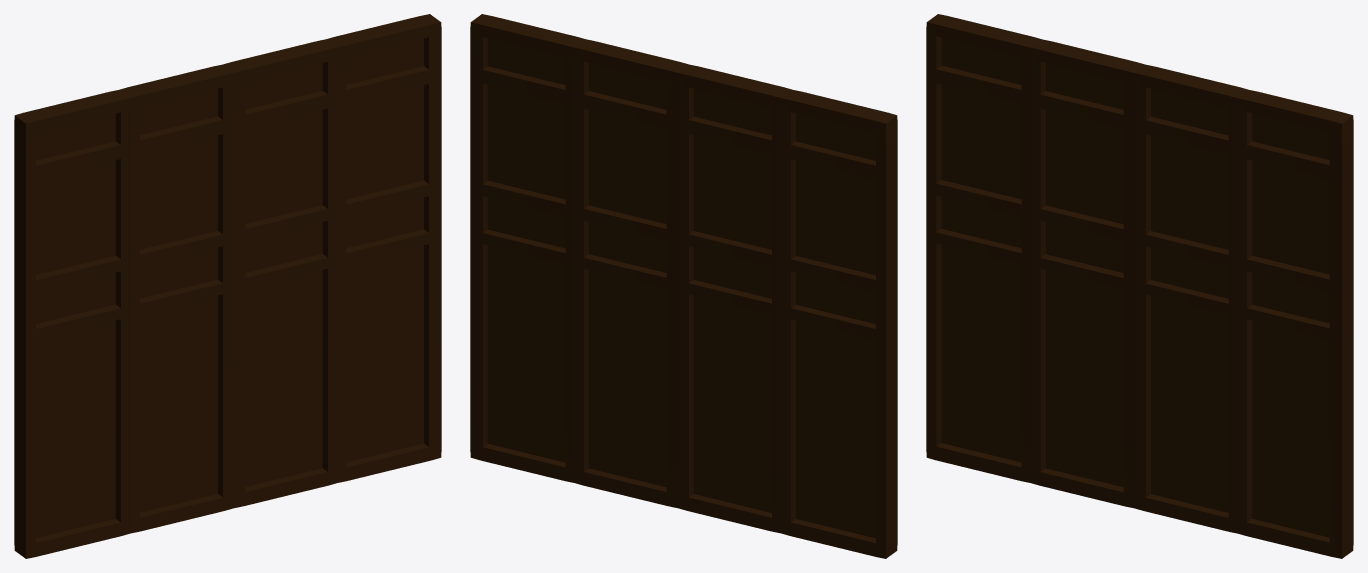
The model's file is HouseDoor_(Outlined)_v002.fbx.
The picture shows the model from 3 angles, left to right: view 1: azimuth 30°, elevation 25°; view 2: azimuth 150°, elevation 25°; view 3: azimuth 330°, elevation 25°; orthographic projection.
Parts seen in each view (by area): view 1: Cube.028, Cube.027, Cube.030, Cube.029; view 2: Cube.028, Cube.027, Cube.030, Cube.029; view 3: Cube.027, Cube.028, Cube.030, Cube.029.
Boxes of the visible parts, left/top/right/bottom form: Cube.028: left=14, top=90, right=131, bottom=558; Cube.027: left=326, top=14, right=441, bottom=482; Cube.030: left=222, top=39, right=338, bottom=508; Cube.029: left=119, top=64, right=235, bottom=533; Cube.028: left=780, top=90, right=897, bottom=558; Cube.027: left=470, top=14, right=585, bottom=482; Cube.030: left=573, top=39, right=689, bottom=508; Cube.029: left=676, top=64, right=792, bottom=533; Cube.027: left=1236, top=90, right=1353, bottom=558; Cube.028: left=926, top=14, right=1041, bottom=482; Cube.030: left=1132, top=64, right=1248, bottom=533; Cube.029: left=1029, top=39, right=1145, bottom=508.
Bounding box in the file's own units: 204 × 205 × 9.93.
